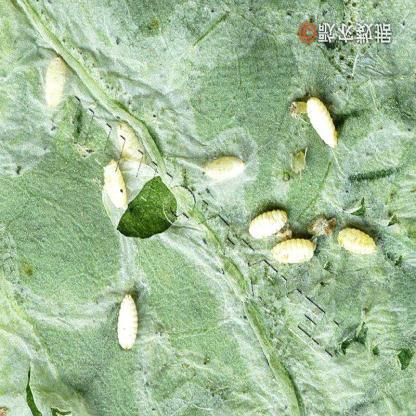whorl-maggot: (300, 92, 344, 154), (330, 218, 384, 260), (39, 43, 68, 115), (266, 236, 325, 270), (242, 204, 290, 245), (116, 288, 140, 354), (204, 149, 247, 185), (105, 160, 127, 209)
